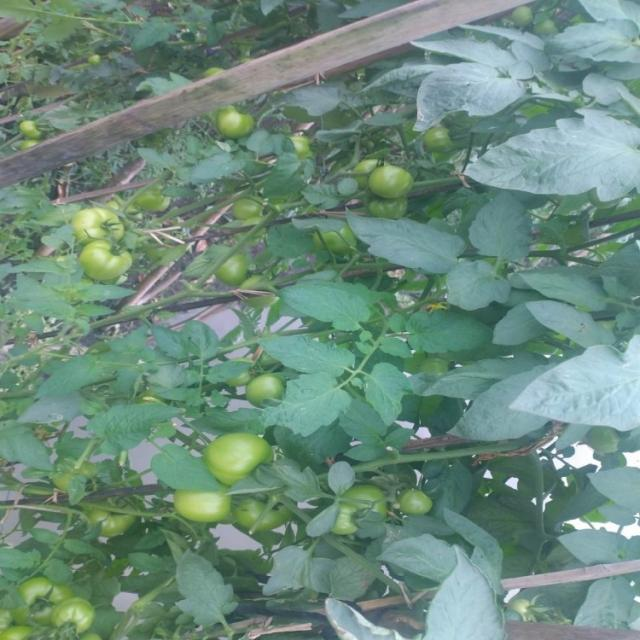tomato: (199, 425, 290, 495), (80, 234, 140, 295), (317, 490, 394, 537), (161, 487, 233, 535), (20, 567, 67, 628), (64, 198, 124, 243), (235, 365, 289, 413), (52, 592, 105, 640), (364, 161, 421, 204), (216, 252, 260, 292), (216, 101, 253, 143), (402, 479, 440, 517), (95, 500, 131, 537), (426, 125, 453, 156), (18, 114, 46, 139)
